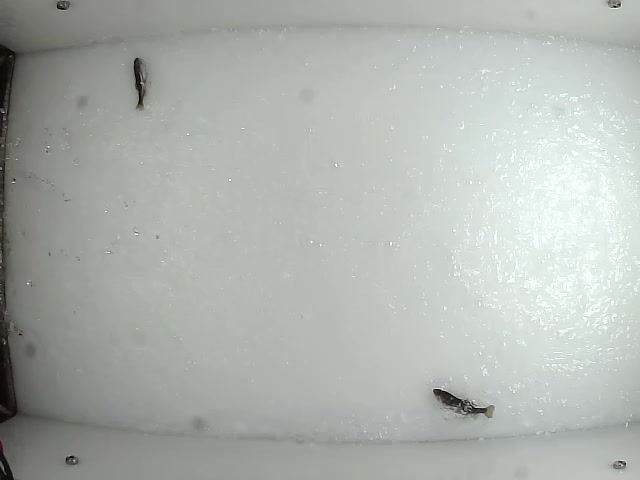fish: (431, 385, 496, 421), (129, 57, 152, 112)
